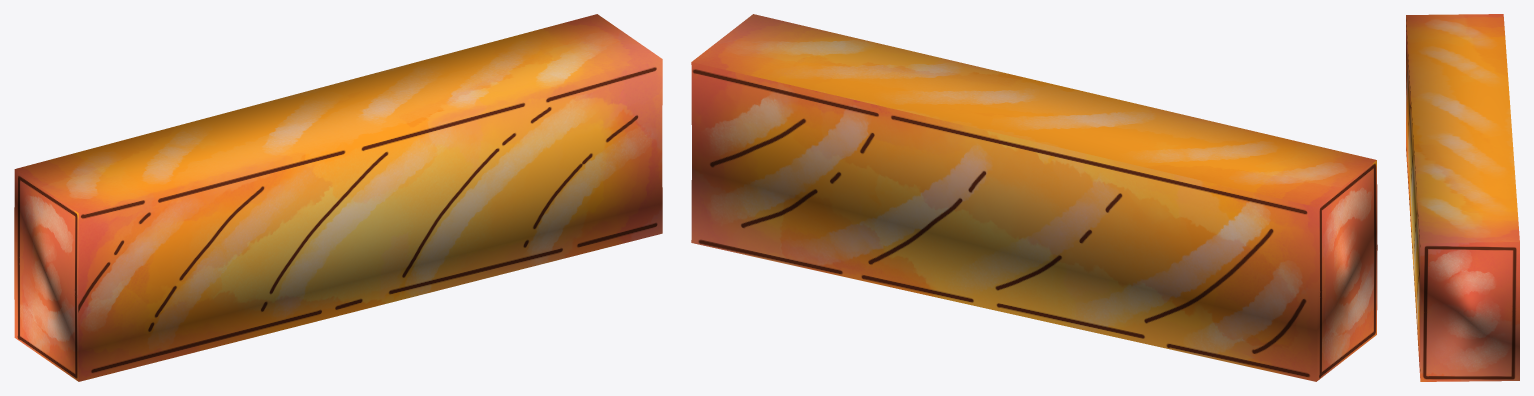
File: salmon thick strip.fbx
The picture shows the model from 3 angles, left to right: view 1: azimuth 30°, elevation 25°; view 2: azimuth 150°, elevation 25°; view 3: azimuth 270°, elevation 25°; orthographic projection. The views are drawn at different scales.
Parts seen in each view (by area): view 1: salmon_thick_strip; view 2: salmon_thick_strip; view 3: salmon_thick_strip.
Part boxes in pixels (x1,y1,x2,y2): salmon_thick_strip: (14,14,662,381); salmon_thick_strip: (691,14,1377,381); salmon_thick_strip: (1406,14,1519,381).
Bounding box in the file's own units: 12.38 × 3.46 × 2.57.
